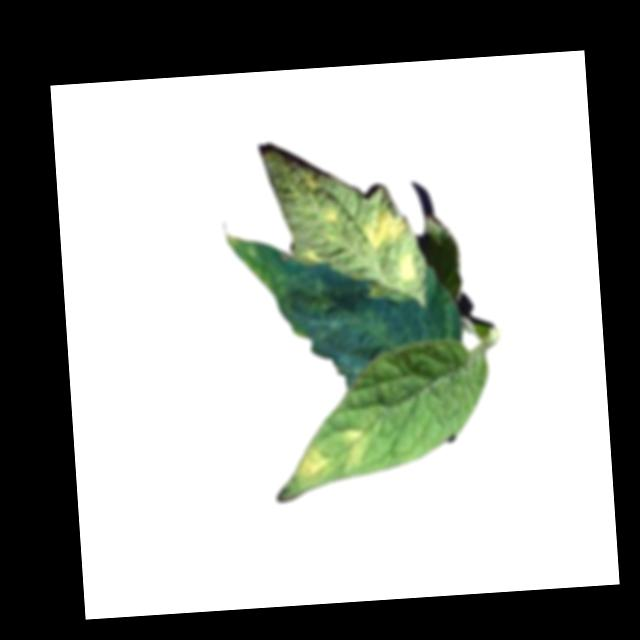Leaf_Mold: (228, 229, 294, 302), (360, 202, 412, 250), (290, 440, 337, 489), (340, 423, 374, 470), (395, 251, 420, 288), (317, 201, 346, 226)
